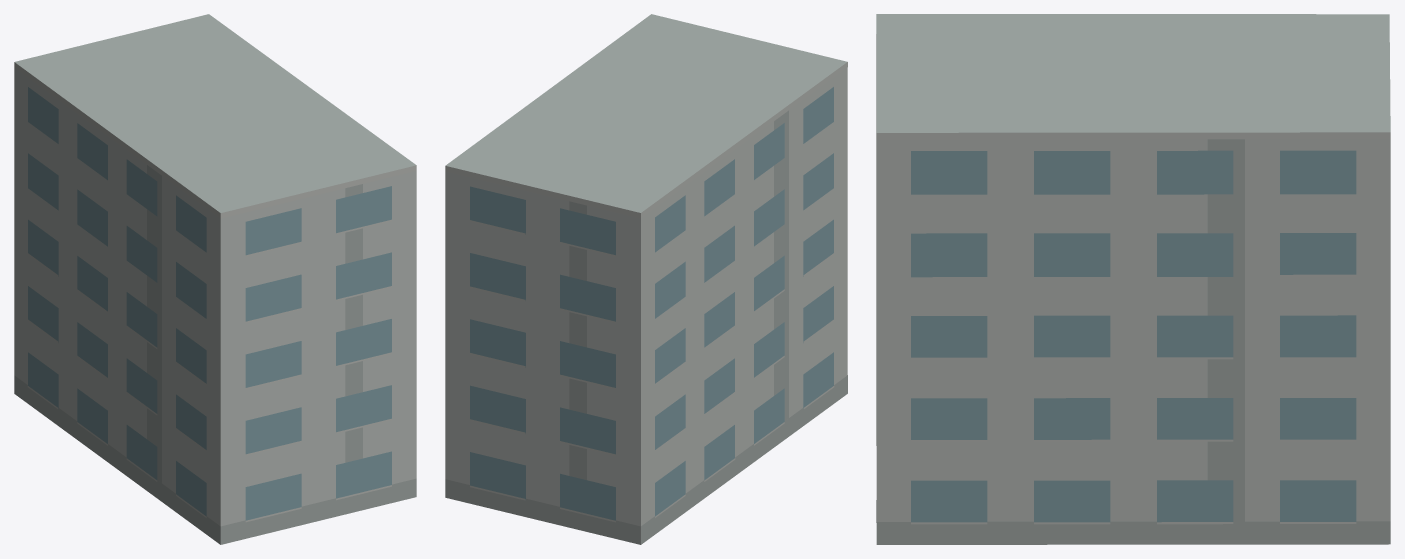
The model's file is survey-upis-32927416.glb.
The picture shows the model from 3 angles, left to right: view 1: azimuth 30°, elevation 25°; view 2: azimuth 150°, elevation 25°; view 3: azimuth 270°, elevation 25°; orthographic projection. The views are drawn at different scales.
Parts seen in each view (by area): view 1: survey-upis-32927416.tmp; view 2: survey-upis-32927416.tmp; view 3: survey-upis-32927416.tmp.
Boxes of the visible parts, left/top/right/bottom form: survey-upis-32927416.tmp: left=14, top=14, right=416, bottom=544; survey-upis-32927416.tmp: left=445, top=14, right=847, bottom=544; survey-upis-32927416.tmp: left=876, top=14, right=1390, bottom=544.
Bounding box in the file's own units: 9.06 × 14.6 × 16.54.
